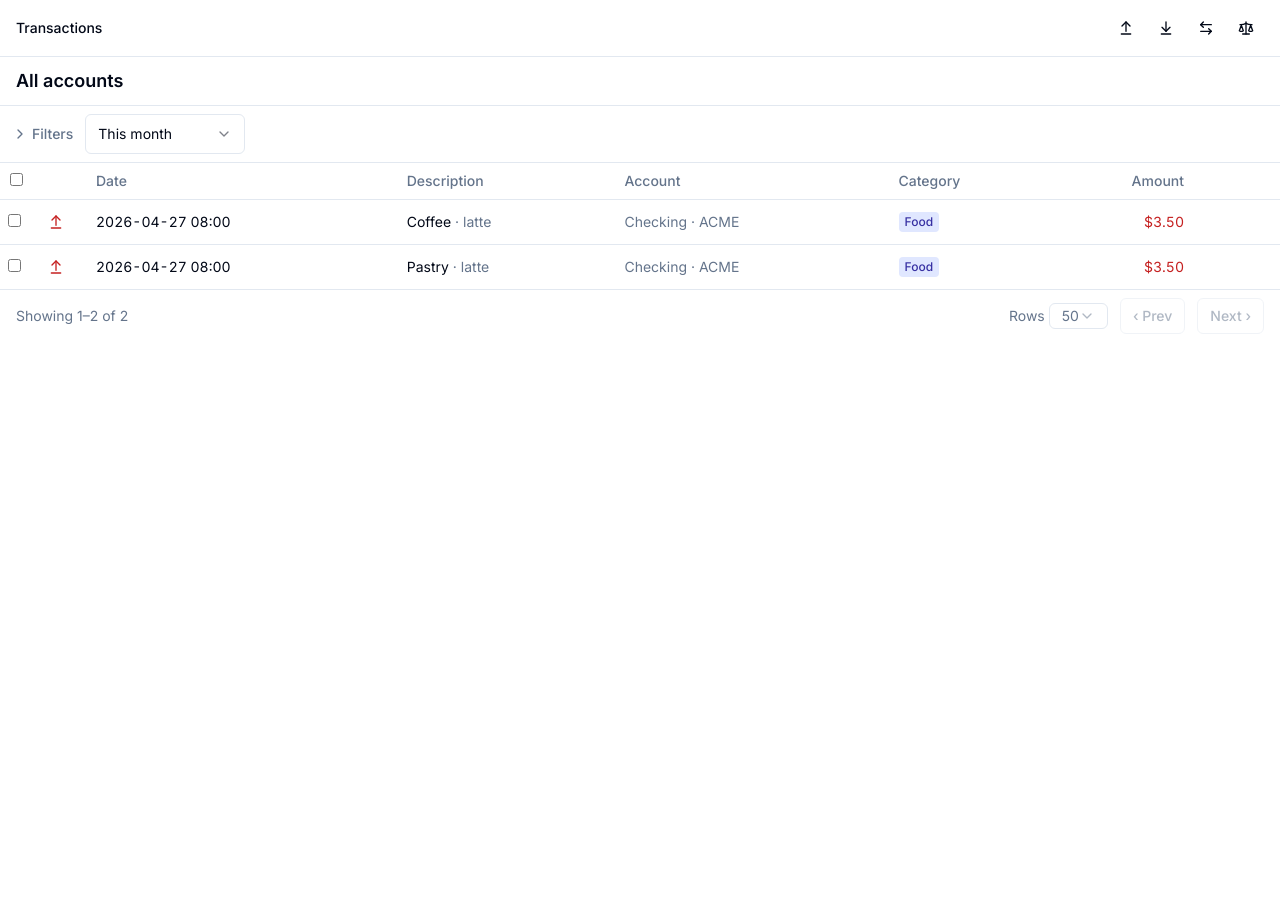
Scenario: TransactionsPane — selection-driven merge › selecting two rows reveals the action bar and opens the merge dialog
Expected: the text "Coffee" is shown, [407, 213, 451, 230]
What coordinates should you click on to do the following:
click the checkbox named "select coffee"
I would click on:
 (14, 220)
Its box is [8, 214, 21, 227].
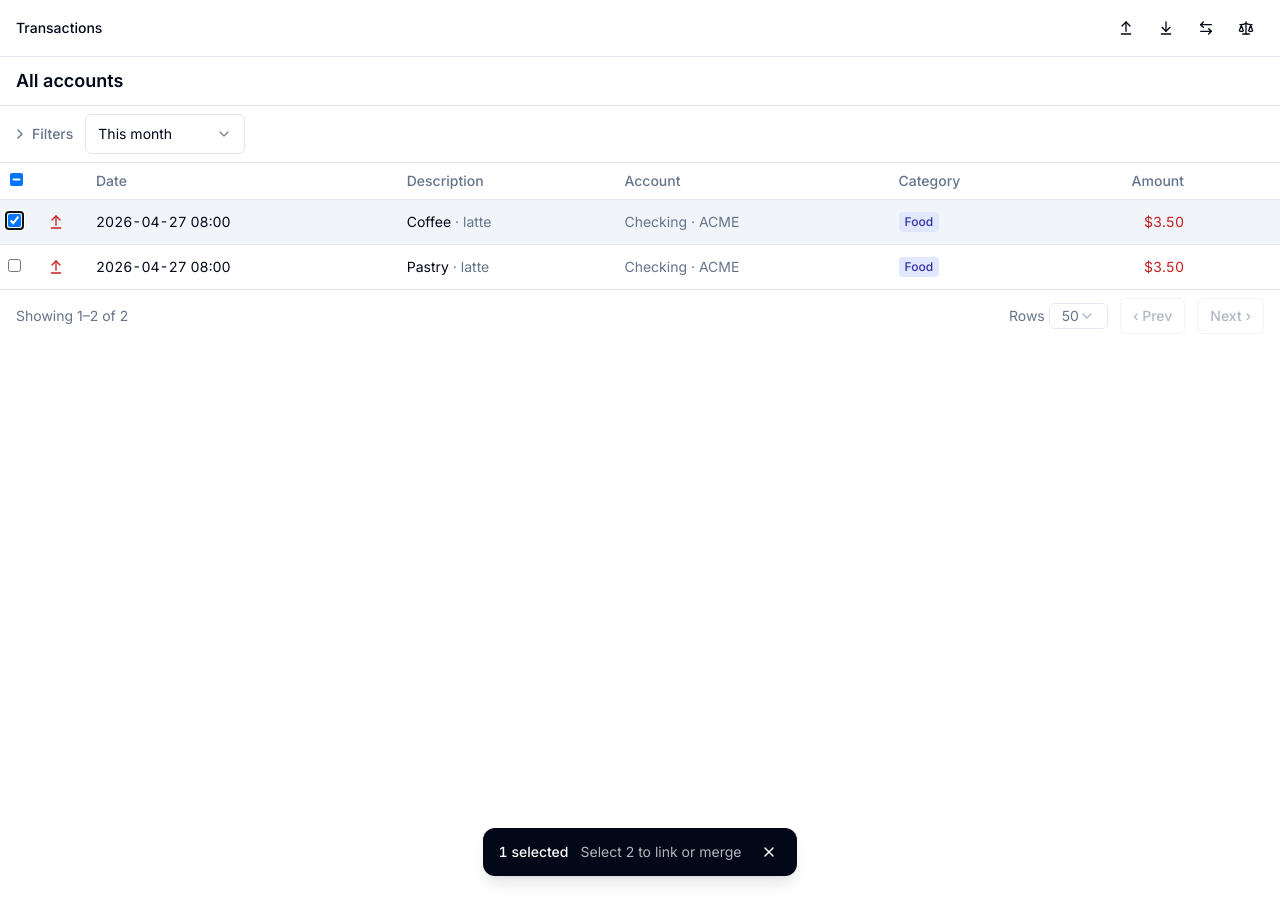
What coordinates should you click on to do the following:
click the checkbox named "select pastry"
I would click on:
 (14, 266)
Its box is [8, 259, 21, 272].
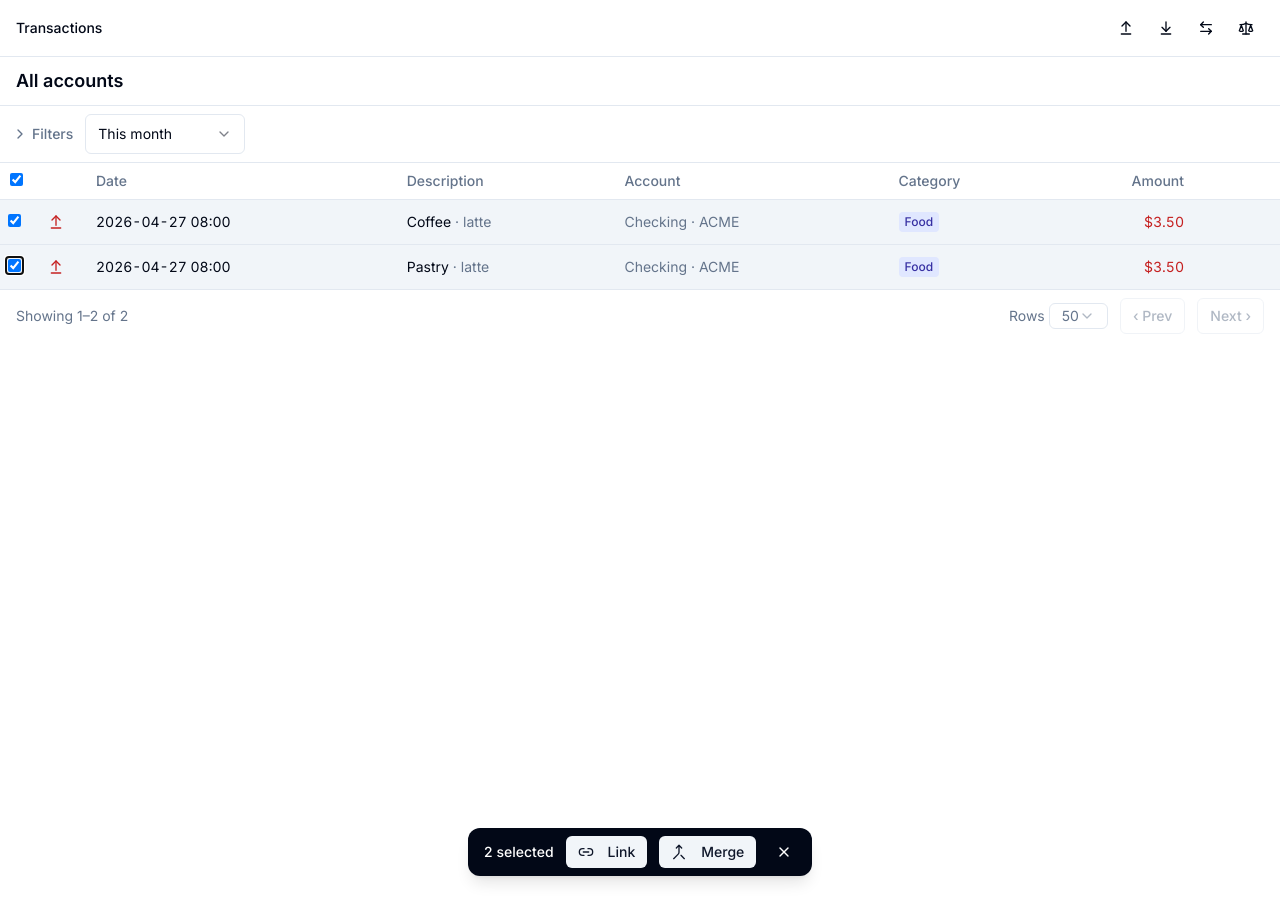
Now the element named "selection actions" shows "2 selected", box [484, 843, 554, 860]
What coordinates should you click on to do the following:
click the button with aria-label "merge selected"
I would click on:
 (708, 852)
Its box is [659, 836, 756, 868].
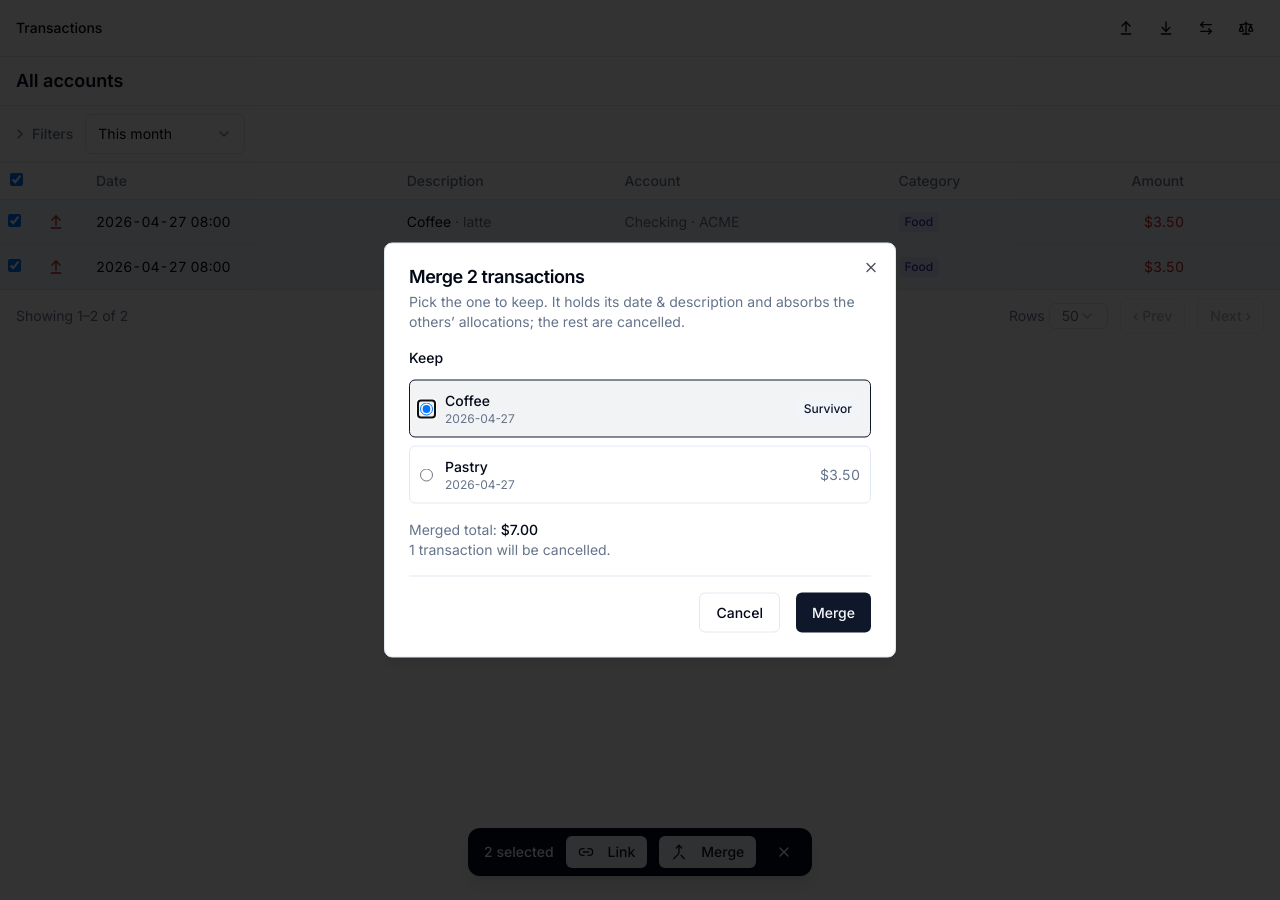
Now the dialog shows "Merge 2 transactions", box [409, 266, 584, 286]
Now the radio button labelled "Coffee 2026-04-27 Survivor" is shown, box [420, 402, 433, 415]
Now the radio button labelled "Pastry 2026-04-27 $3.50" is shown, box [420, 468, 433, 481]
